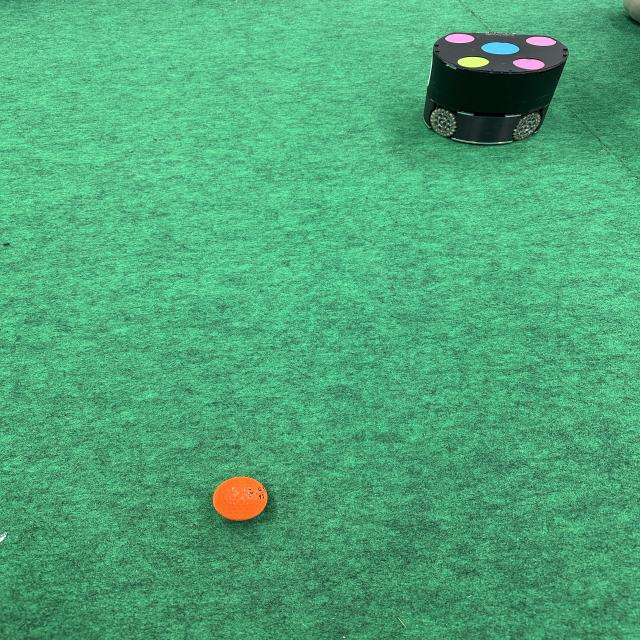ball: (211, 475, 269, 522)
